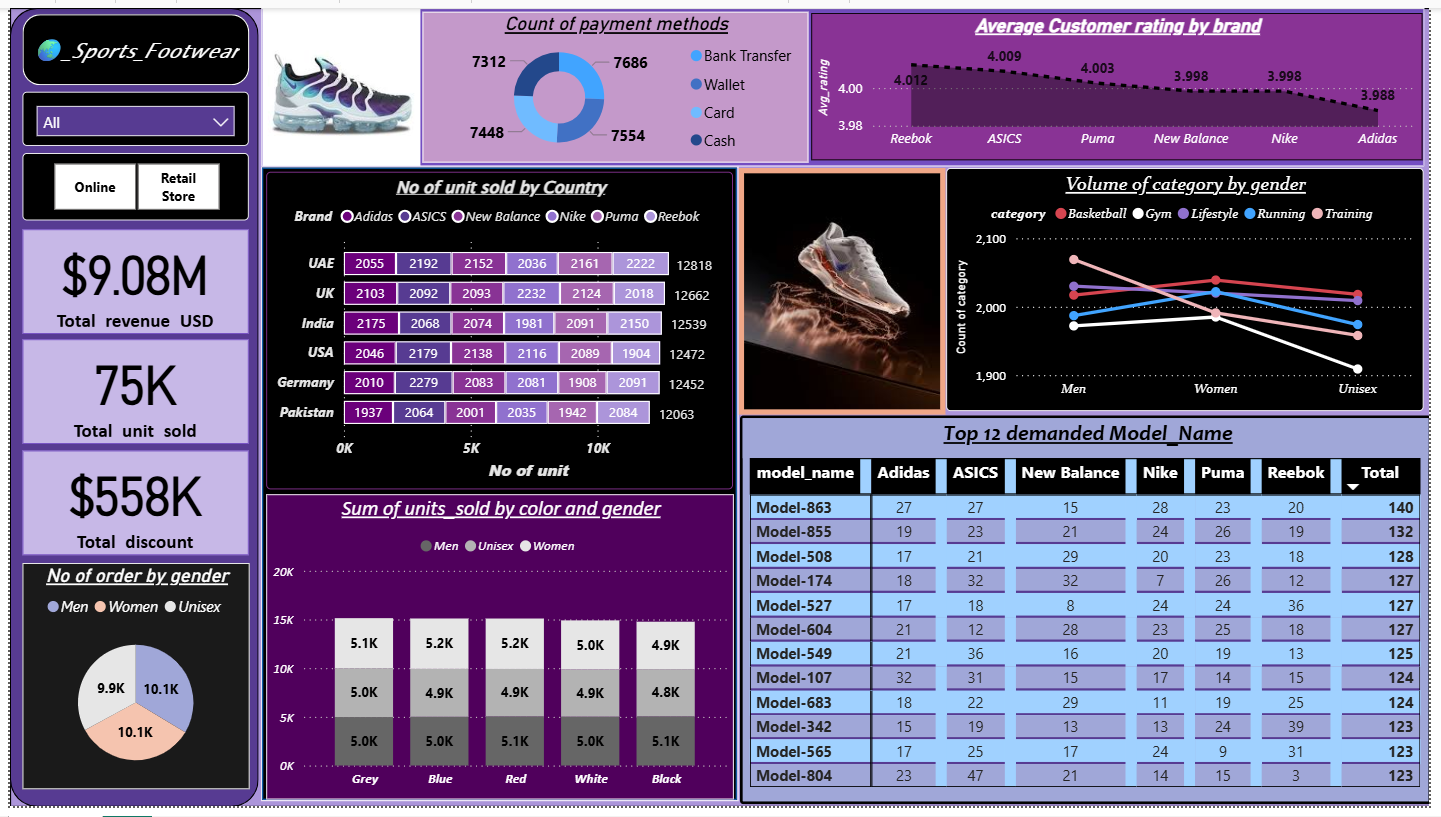

The page's visual inventory and layout, read from the dashboard file:
{"tool":"powerbi","page":{"name":"Page 1","canvas":[1280,720],"ordinal":0},"visuals":[{"type":"shape","box":[0,0,1280.6,720.4],"z":0},{"type":"shape","box":[0,0,224.3,720.4],"z":1000},{"type":"shape","box":[11.1,6,204.4,64],"z":2000},{"type":"shape","box":[227,0,1049,143],"z":3000},{"type":"pieChart","title":"No of order by gender","fields":{"Category":["global_sports_footwear_sales_2018_2026.gender"],"Y":["Count(global_sports_footwear_sales_2018_2026.order_id)"]},"box":[11,500,205,204],"z":4000},{"type":"slicer","fields":{"Values":["global_sports_footwear_sales_2018_2026.Year"]},"box":[11,76,204,49],"z":5000},{"type":"card","fields":{"Values":["Sum(global_sports_footwear_sales_2018_2026.revenue_usd)"]},"box":[11,199,204,94],"z":6000},{"type":"card","fields":{"Values":["Sum(global_sports_footwear_sales_2018_2026.units_sold)"]},"box":[11,299,204,94],"z":7000},{"type":"card","fields":{"Values":["global_sports_footwear_sales_2018_2026.Total_discount"]},"box":[11,399,204,94],"z":8000},{"type":"slicer","fields":{"Values":["global_sports_footwear_sales_2018_2026.sales_channel"]},"box":[11,131,204,61],"z":9000},{"type":"shape","box":[227,143,430,572],"z":10000},{"type":"barChart","title":"No of unit sold by Country","fields":{"Category":["global_sports_footwear_sales_2018_2026.country"],"Series":["global_sports_footwear_sales_2018_2026.brand"],"Y":["Sum(global_sports_footwear_sales_2018_2026.units_sold)"]},"box":[231,148,421,286],"z":11000},{"type":"donutChart","title":"Count of payment methods","fields":{"Y":["CountNonNull(global_sports_footwear_sales_2018_2026.payment_method)"],"Category":["global_sports_footwear_sales_2018_2026.payment_method"]},"box":[372,3,348,136],"z":12000},{"type":"lineChart","title":"Volume of category by gender ","fields":{"Category":["global_sports_footwear_sales_2018_2026.gender"],"Y":["CountNonNull(global_sports_footwear_sales_2018_2026.category)"],"Series":["global_sports_footwear_sales_2018_2026.category"]},"box":[844,144,430.2,219],"z":13000},{"type":"lineChart","title":"Average Customer rating by brand","fields":{"Category":["global_sports_footwear_sales_2018_2026.brand"],"Y":["Avg(global_sports_footwear_sales_2018_2026.customer_rating)"]},"box":[723,5,551,133],"z":14000},{"type":"columnChart","fields":{"Category":["global_sports_footwear_sales_2018_2026.color"],"Y":["Sum(global_sports_footwear_sales_2018_2026.units_sold)"],"Series":["global_sports_footwear_sales_2018_2026.gender"]},"box":[231.1,438,421.9,275],"z":15000},{"type":"pivotTable","title":"Top 12 demanded Model_Name","fields":{"Columns":["global_sports_footwear_sales_2018_2026.brand"],"Rows":["global_sports_footwear_sales_2018_2026.model_name"],"Values":["Sum(global_sports_footwear_sales_2018_2026.units_sold)"]},"box":[658,368,623,350],"z":16000},{"type":"image","box":[657.5,143.8,186.2,222.5],"z":17000},{"type":"image","box":[227.5,0,142,142.5],"z":18000}]}

Visuals, with their boxes in screenshot pixels (x1, y1, x2, y2), scaled from the page's 1280x720 canvas onto the 1441x817 screenshot:
shape: region(0, 0, 1440, 816)
shape: region(0, 0, 253, 816)
shape: region(12, 7, 243, 79)
shape: region(256, 0, 1436, 162)
"No of order by gender" pieChart: region(12, 567, 243, 799)
slicer - global_sports_footwear_sales_2018_2026.Year: region(12, 86, 242, 142)
card - Sum(global_sports_footwear_sales_2018_2026.revenue_usd): region(12, 226, 242, 332)
card - Sum(global_sports_footwear_sales_2018_2026.units_sold): region(12, 339, 242, 446)
card - global_sports_footwear_sales_2018_2026.Total_discount: region(12, 453, 242, 559)
slicer - global_sports_footwear_sales_2018_2026.sales_channel: region(12, 149, 242, 218)
shape: region(256, 162, 740, 811)
"No of unit sold by Country" barChart: region(260, 168, 734, 492)
"Count of payment methods" donutChart: region(419, 3, 811, 158)
"Volume of category by gender " lineChart: region(950, 163, 1434, 412)
"Average Customer rating by brand" lineChart: region(814, 6, 1434, 157)
columnChart - global_sports_footwear_sales_2018_2026.color x Sum(global_sports_footwear_sales_2018_2026.units_sold): region(260, 497, 735, 809)
"Top 12 demanded Model_Name" pivotTable: region(741, 418, 1440, 815)
image: region(740, 163, 950, 416)
image: region(256, 0, 416, 162)
